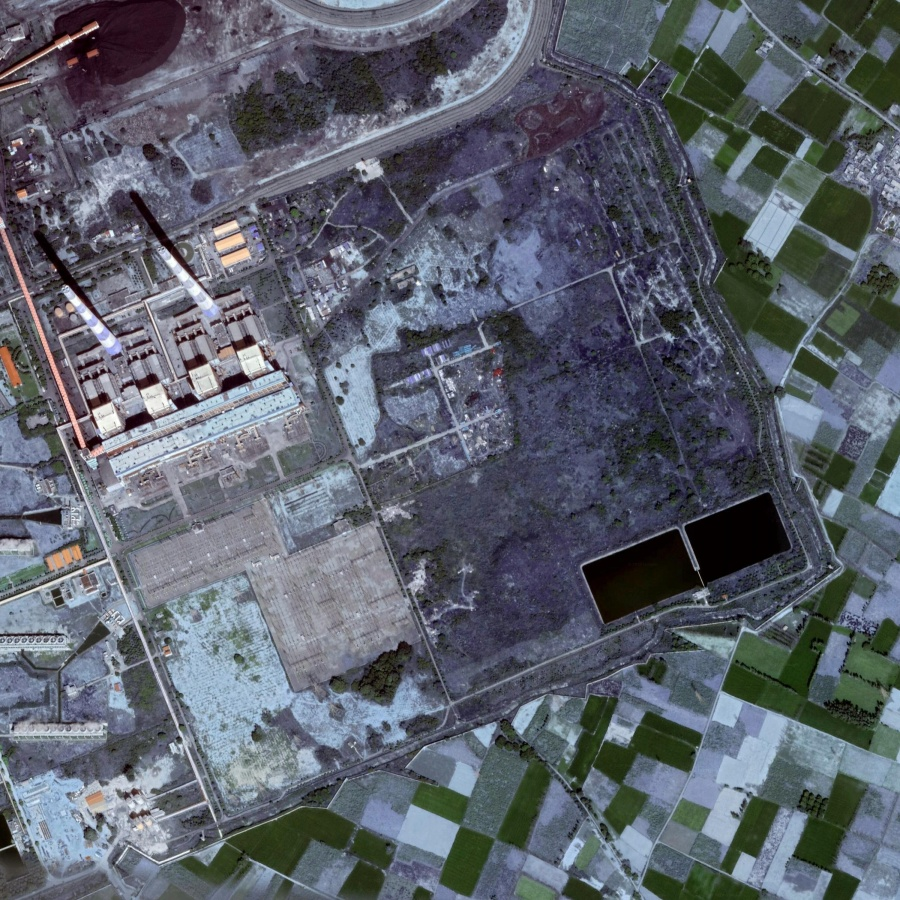PowerPlant: (23, 183, 260, 388), (561, 472, 802, 658)
